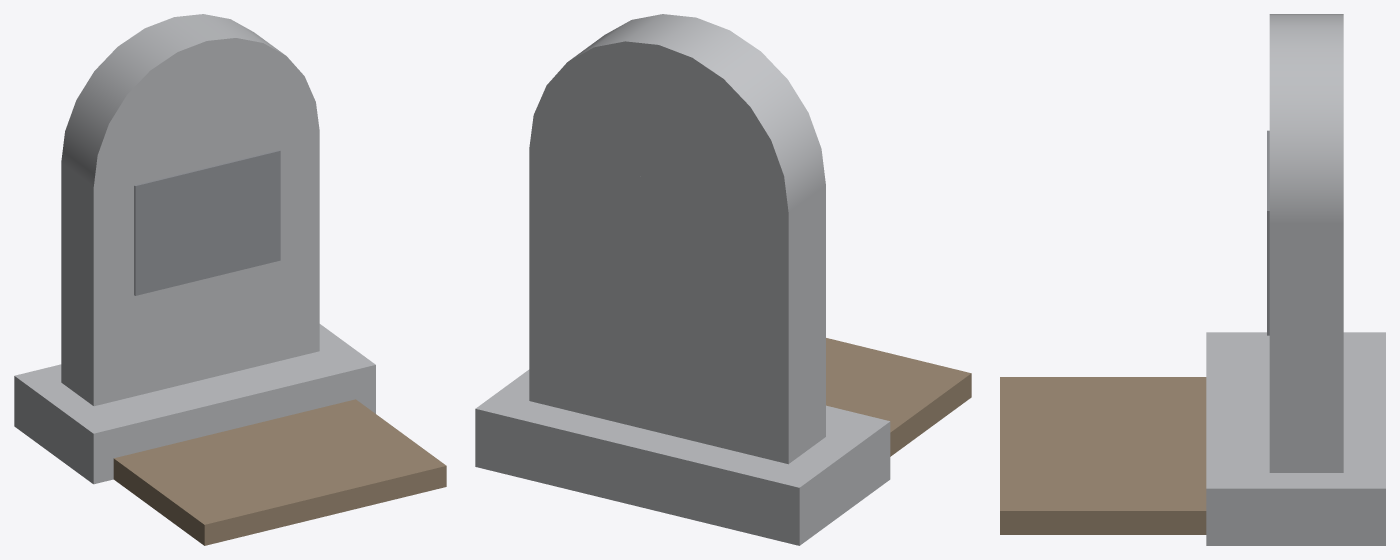
File: tombstone.glb
The picture shows the model from 3 angles, left to right: view 1: azimuth 30°, elevation 25°; view 2: azimuth 150°, elevation 25°; view 3: azimuth 270°, elevation 25°; orthographic projection. The views are drawn at different scales.
Parts seen in each view (by area): view 1: tombstone; view 2: tombstone; view 3: tombstone.
Part boxes in pixels (bbox=[...]): tombstone: bbox=[14, 14, 446, 545]; tombstone: bbox=[475, 14, 971, 545]; tombstone: bbox=[1000, 14, 1385, 545].
Size of the model in its own units: 0.7 by 0.92 by 0.73.
